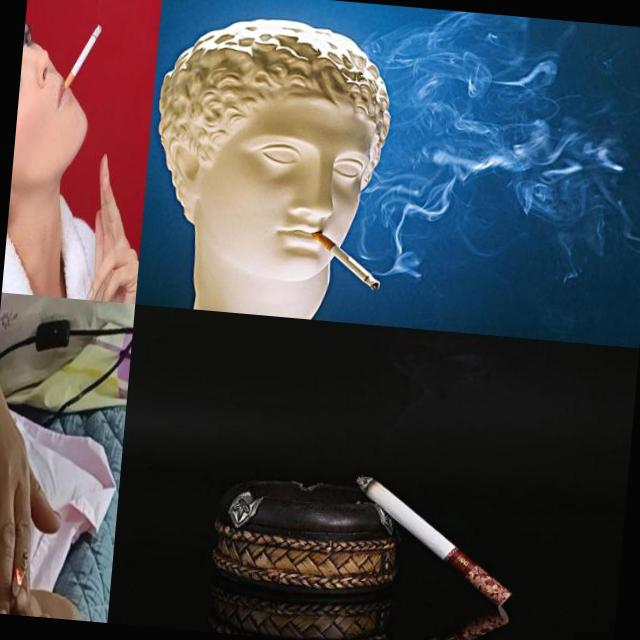smoke: (342, 468, 523, 607), (306, 230, 386, 292), (62, 20, 103, 94), (7, 548, 29, 610)
